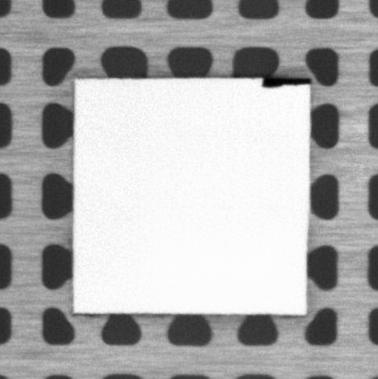DIE_BROKEN: (261, 75, 311, 88)
